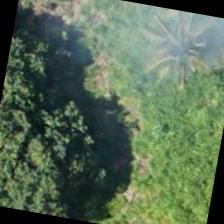Kelapa_Sawit: (116, 2, 220, 96)
